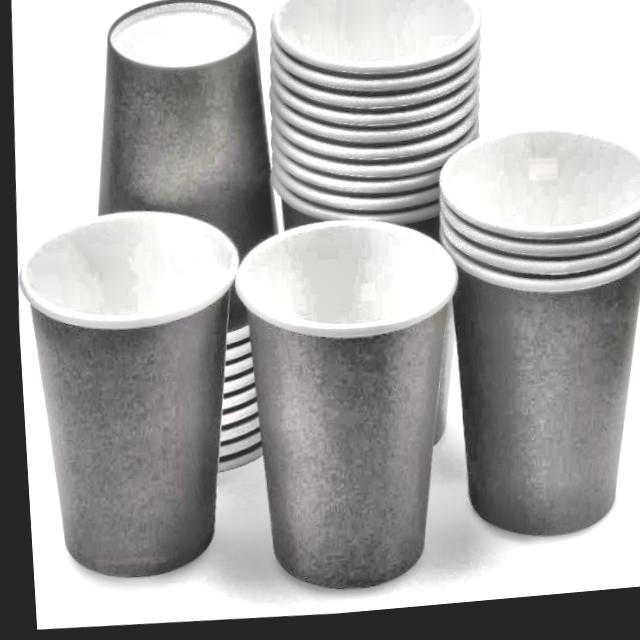Cup: (248, 0, 502, 483), (67, 0, 302, 494), (223, 205, 475, 611), (420, 117, 640, 563), (10, 199, 249, 601)
